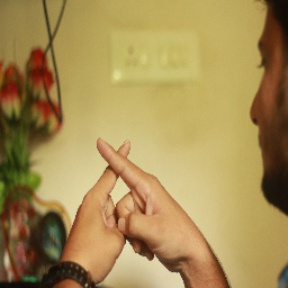X: (64, 117, 179, 225)
